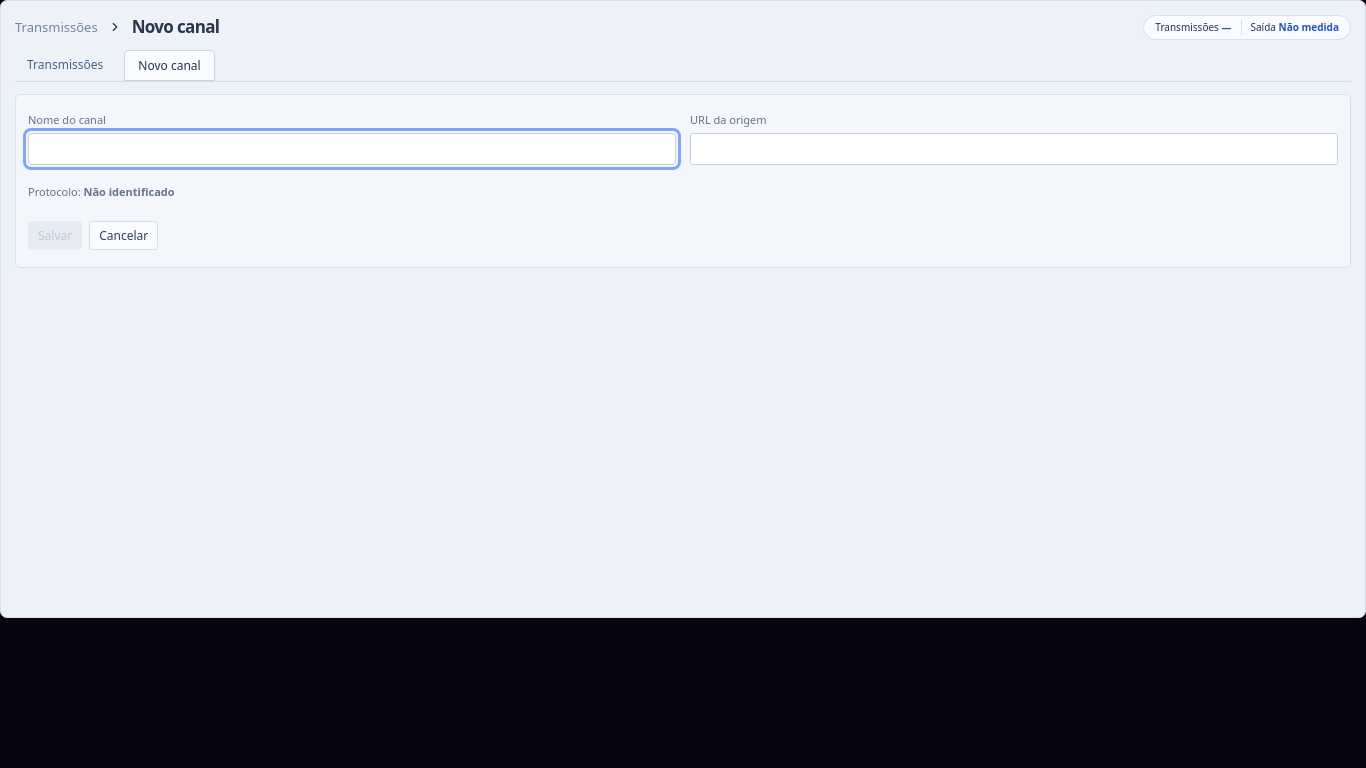
Test: cancel does not create a channel and a failed save stays on the creation page
Type "Teste" into the field labelled "Nome do canal".
click(352, 149); type("Teste")  # box [28,133,676,165]
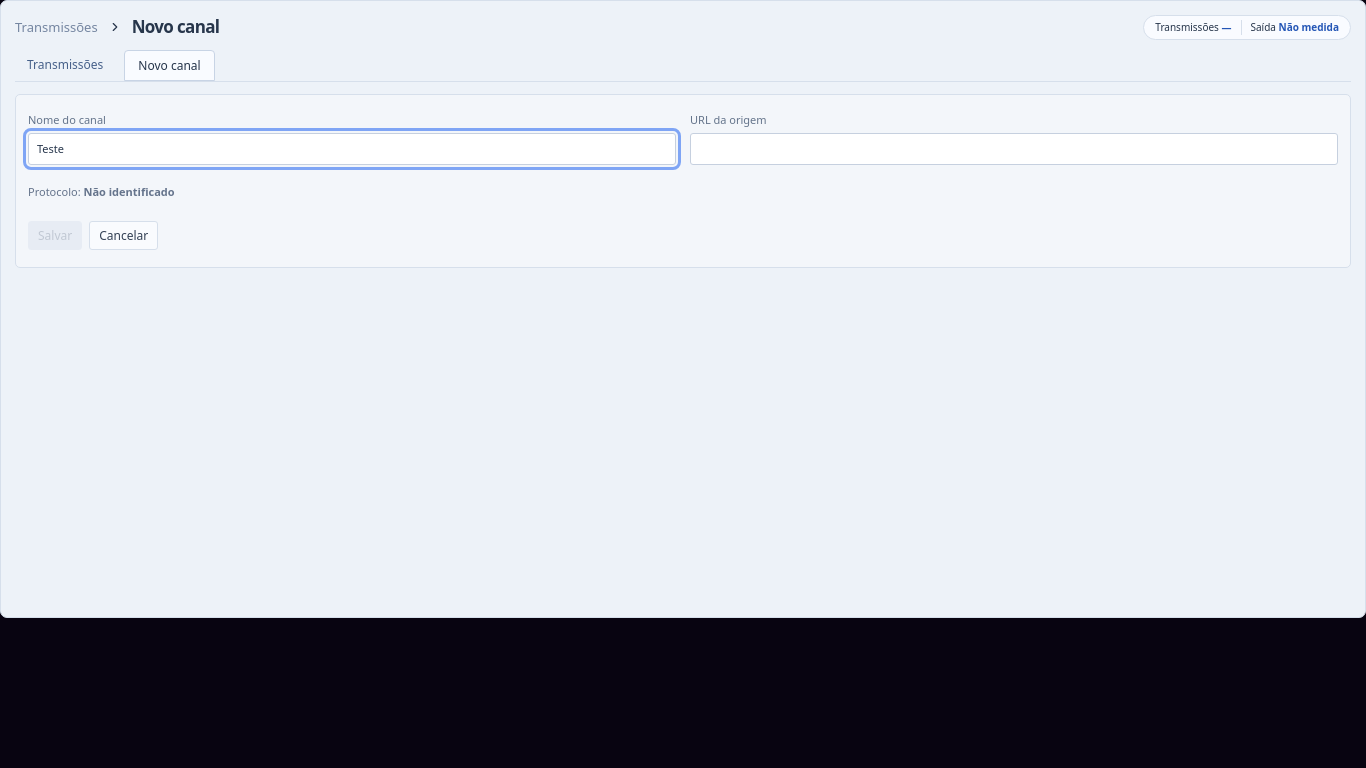
Type "https://synthetic-user:synthetic-password@media.example/CANAL/mpegts?token=synthetic-token" into the field labelled "URL da origem".
click(1014, 149); type("https://synthetic-user:synthetic-password@media.example/CANAL/mpegts?token=synthetic-token")  # box [690,133,1338,165]
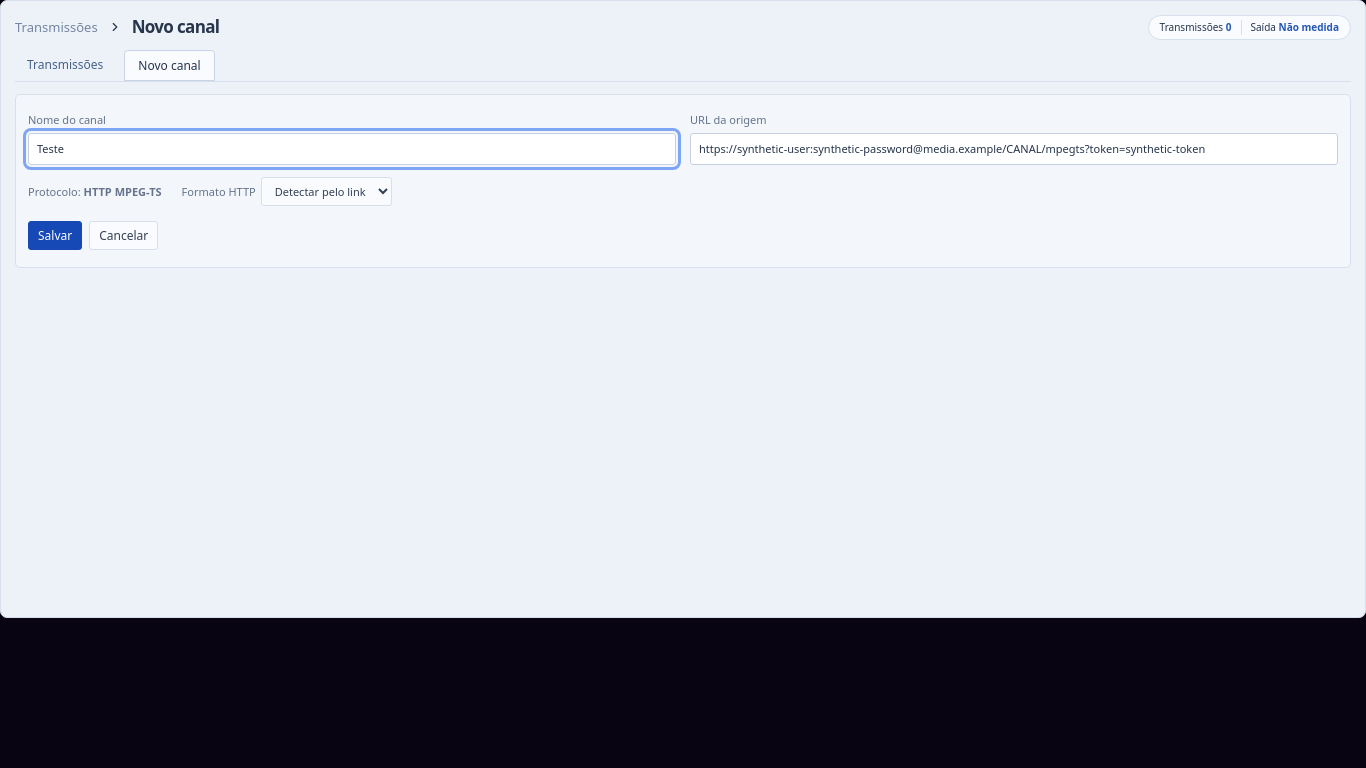
Result: the button "Salvar" is enabled
Click the button "Salvar".
click(55, 236)  # box [28,221,82,250]
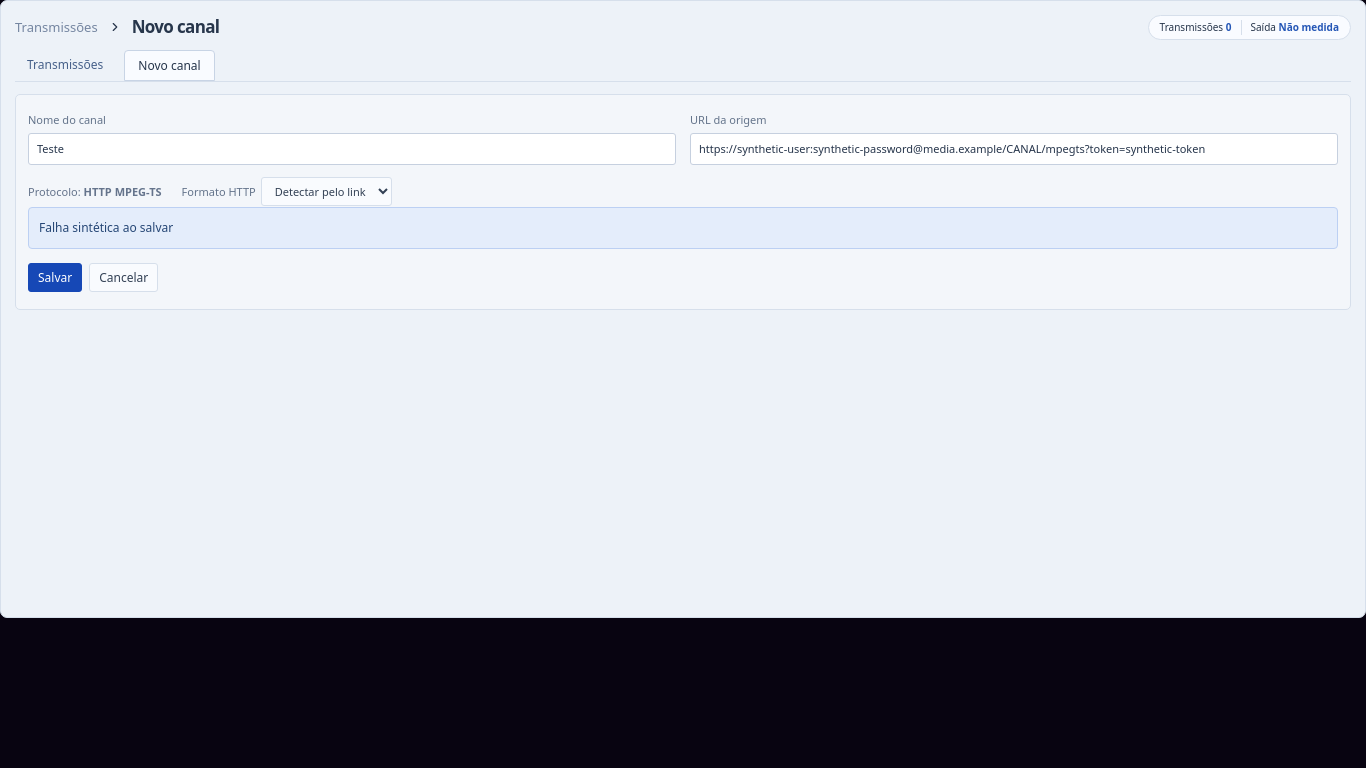
Result: the text "Falha sintética ao salvar" is shown at [28,207,1338,249]
Click the button "Cancelar".
click(124, 277)  # box [89,263,158,292]
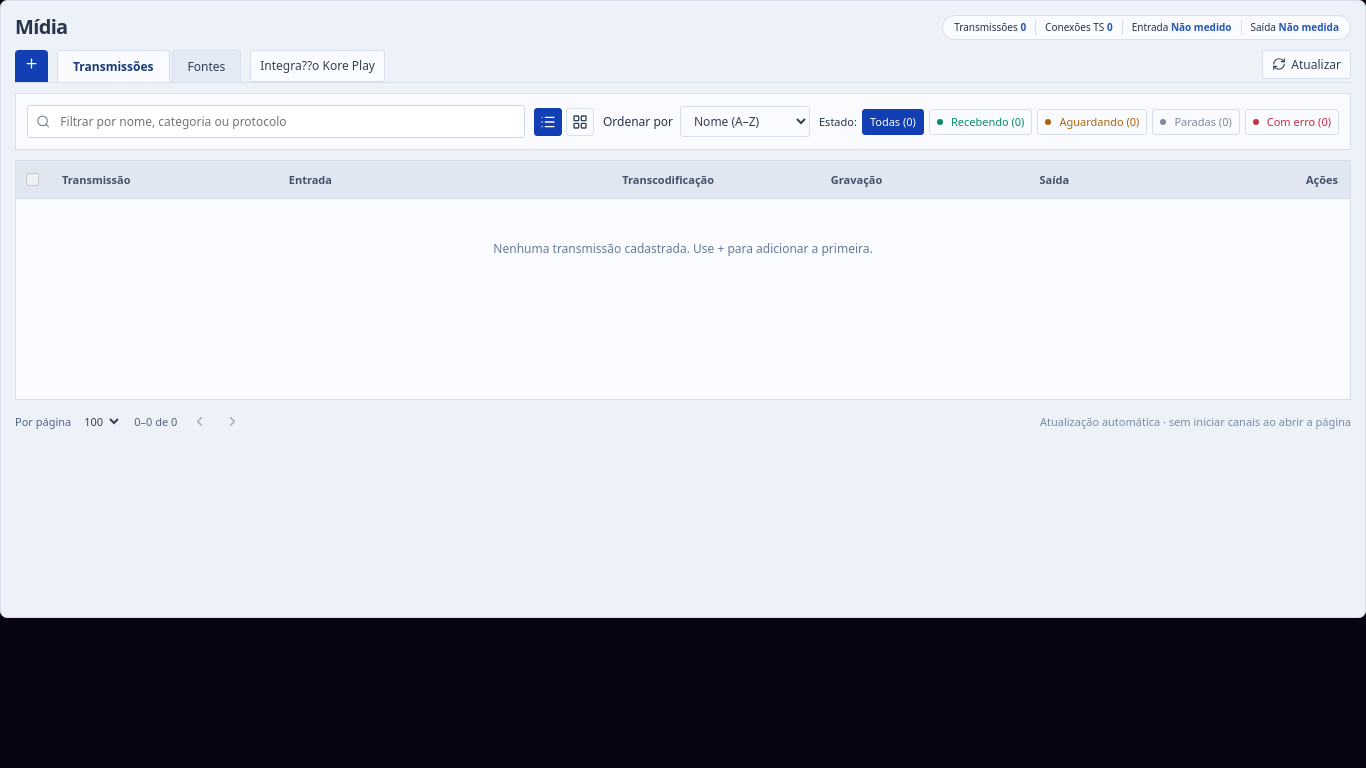
Result: the heading "Mídia" is shown at [15,15,68,39]
